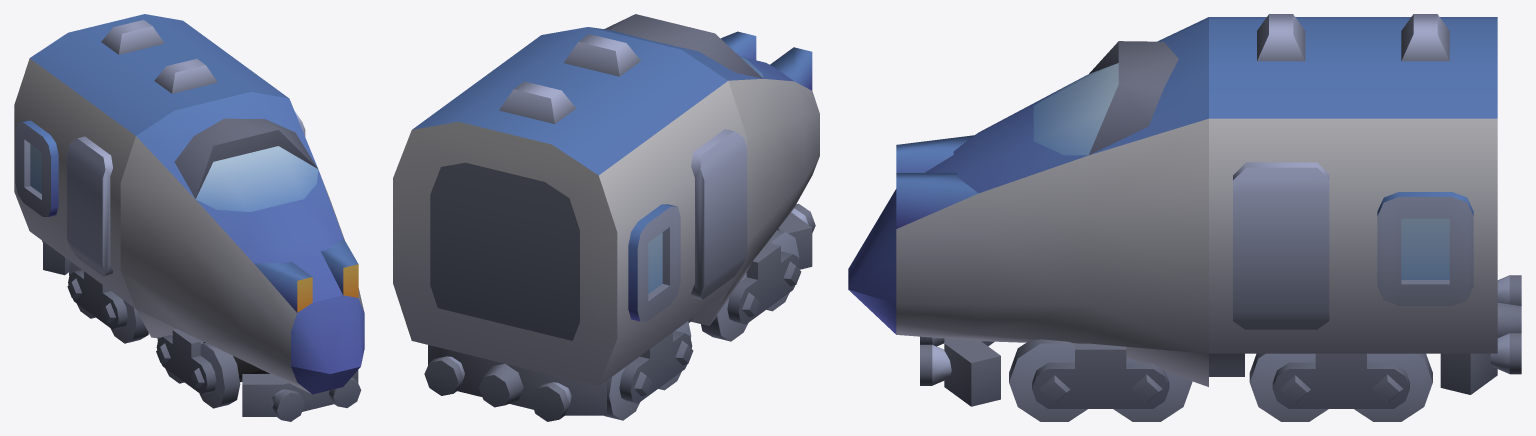
The model's file is train-electric-bullet-a.glb.
3 views of the same model, side by side, from view 1: azimuth 30°, elevation 25°; view 2: azimuth 150°, elevation 25°; view 3: azimuth 270°, elevation 25° (orthographic). The views are drawn at different scales.
Visible parts, largest first — view 1: train-electric-bullet-a, wheels-front, wheels-back; view 2: train-electric-bullet-a, wheels-front, wheels-back; view 3: train-electric-bullet-a, wheels-front, wheels-back.
Boxes of the visible parts, x1=… form: train-electric-bullet-a: x1=14, y1=14, x2=364, y2=421; wheels-front: x1=156, y1=329, x2=269, y2=408; wheels-back: x1=67, y1=262, x2=148, y2=343; train-electric-bullet-a: x1=393, y1=14, x2=819, y2=421; wheels-front: x1=701, y1=230, x2=801, y2=341; wheels-back: x1=604, y1=321, x2=693, y2=420; train-electric-bullet-a: x1=848, y1=14, x2=1521, y2=406; wheels-front: x1=1009, y1=339, x2=1192, y2=421; wheels-back: x1=1249, y1=353, x2=1432, y2=421.
Size of the model in its own units: 1.32 by 1.64 by 2.8.
